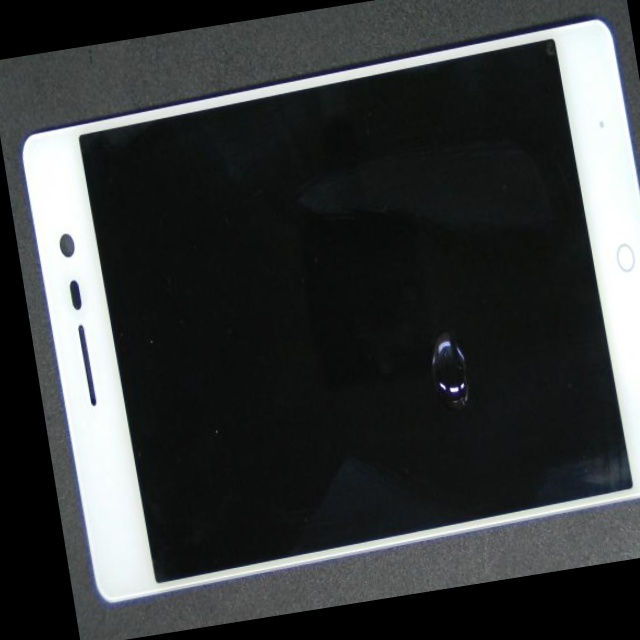oil: (210, 106, 640, 542)
